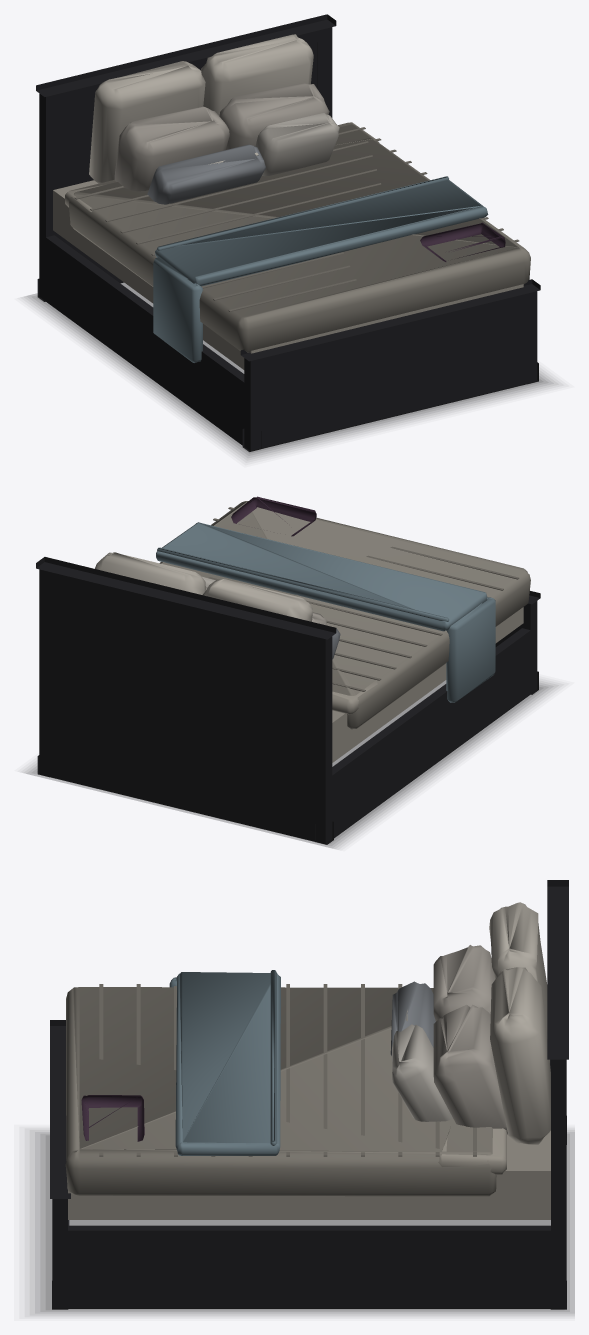
Rendered from guest_bed.glb.
3 renders of one model, top to bottom at view 1: azimuth 30°, elevation 25°; view 2: azimuth 150°, elevation 25°; view 3: azimuth 270°, elevation 25°, orthographic. The views are drawn at different scales.
Visible parts, largest first — view 1: root; view 2: root; view 3: root.
Part boxes in pixels (x1,y1,x2,y2): root: (24,14,558,460); root: (23,496,558,848); root: (29,880,574,1315).
Size of what is drawn, in the model's own units: 1.97 by 1.24 by 2.38.
